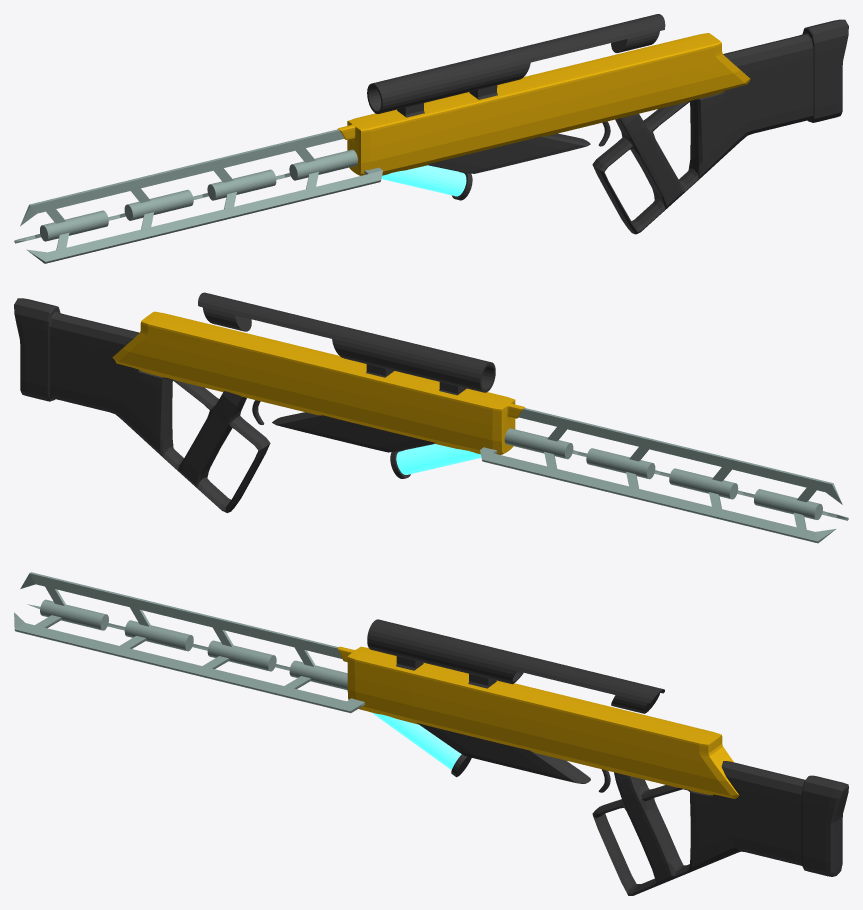
Rendered from lightning sniper.fbx.
3 views of the same model, one above another, from view 1: azimuth 30°, elevation 25°; view 2: azimuth 150°, elevation 25°; view 3: azimuth 330°, elevation 25° (orthographic).
Visible parts, largest first — view 1: Cube, Cube.001, Cylinder, Cylinder.001, Cylinder.002; view 2: Cube, Cube.001, Cylinder, Cylinder.001, Cylinder.002; view 3: Cube, Cube.001, Cylinder, Cylinder.001, Cylinder.002.
Part boxes in pixels (<box>): Cube: <box>338,33,750,175</box>; Cube.001: <box>427,19,848,234</box>; Cylinder: <box>14,129,382,263</box>; Cylinder.001: <box>367,14,665,117</box>; Cylinder.002: <box>381,165,466,196</box>; Cube: <box>112,311,524,454</box>; Cube.001: <box>14,298,435,512</box>; Cylinder: <box>480,408,848,543</box>; Cylinder.001: <box>198,292,495,395</box>; Cylinder.002: <box>396,444,481,474</box>; Cube: <box>337,646,739,798</box>; Cube.001: <box>417,723,848,895</box>; Cylinder: <box>14,572,364,713</box>; Cylinder.001: <box>367,619,664,713</box>; Cylinder.002: <box>371,712,461,769</box>.
Bounding box in the file's own units: 2035 × 497 × 132.
